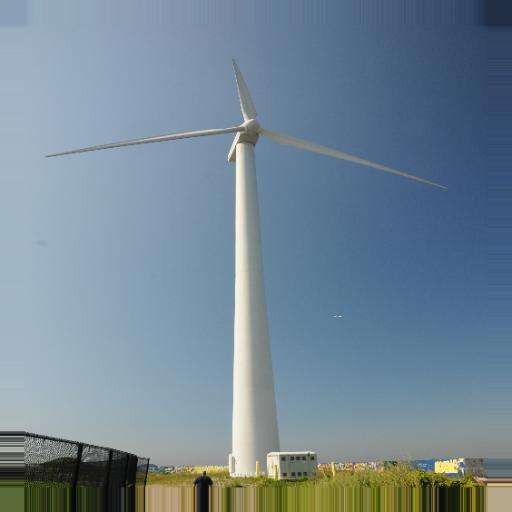wind turbine: (44, 57, 449, 479)
